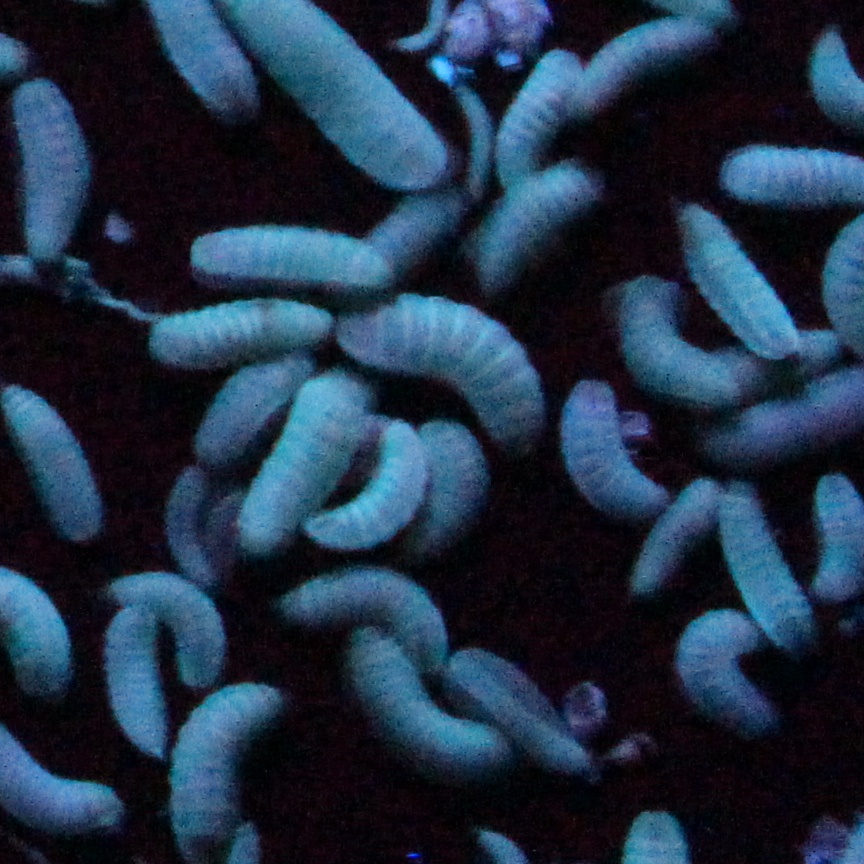larve: (324, 298, 546, 454), (339, 638, 512, 798), (432, 628, 608, 785), (237, 368, 361, 550), (672, 198, 801, 370), (606, 278, 748, 410), (710, 483, 821, 648), (273, 572, 452, 668), (6, 78, 97, 265), (182, 218, 402, 290), (470, 159, 590, 288), (664, 605, 777, 739), (313, 419, 426, 552), (108, 565, 228, 688), (559, 383, 670, 514), (573, 14, 715, 112), (199, 343, 310, 463), (139, 294, 330, 363), (490, 52, 590, 183), (395, 416, 482, 556), (624, 468, 717, 598), (99, 601, 175, 758), (151, 468, 221, 585)
